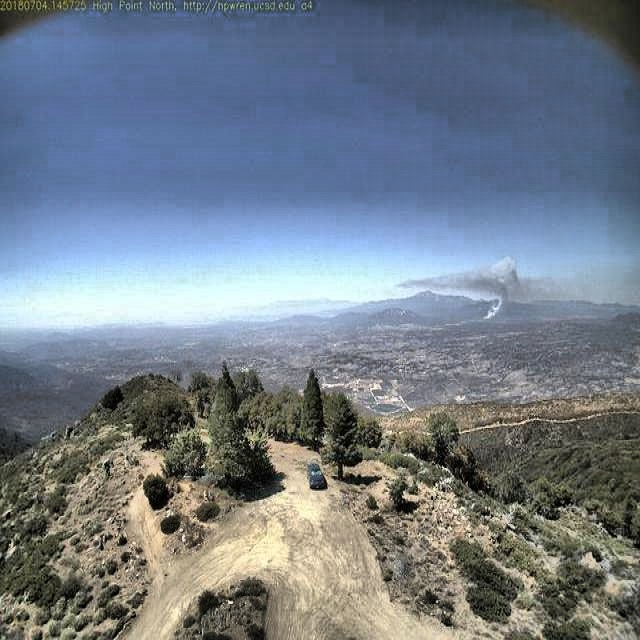smoke: (393, 255, 537, 321)
